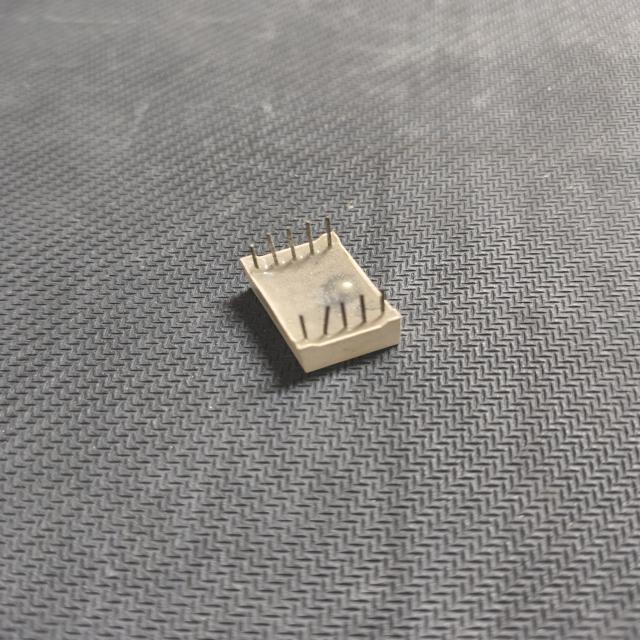sevensegment: (228, 213, 420, 377)
